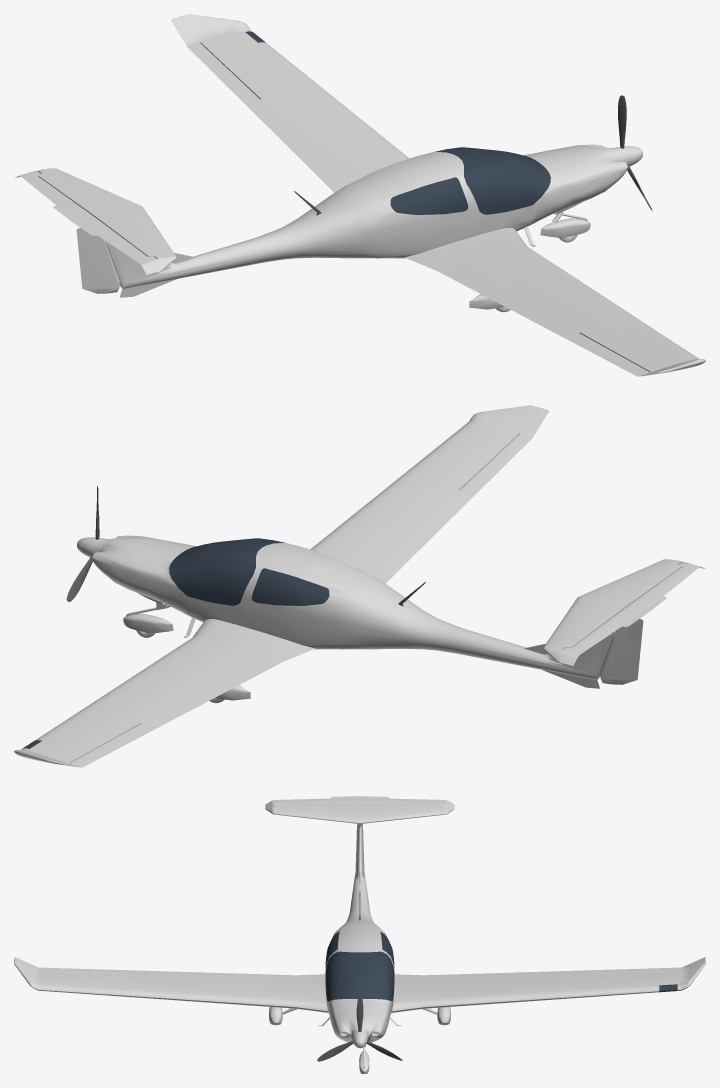
The picture shows the model from 3 angles, top to bottom: view 1: azimuth 30°, elevation 25°; view 2: azimuth 150°, elevation 25°; view 3: azimuth 270°, elevation 25°; orthographic projection. The views are drawn at different scales.
Visible parts, largest first — view 1: body, glass; view 2: body, glass; view 3: body, glass, spin.
Part boxes in pixels (x1,y1,x2,y2): body: [14, 14, 705, 376]; glass: [245, 31, 550, 214]; body: [14, 405, 705, 767]; glass: [22, 538, 359, 748]; body: [14, 796, 705, 1073]; glass: [325, 932, 677, 1001]; spin: [317, 994, 402, 1061].
Size of the model in its own units: 1.5 by 0.3641 by 2.2.
